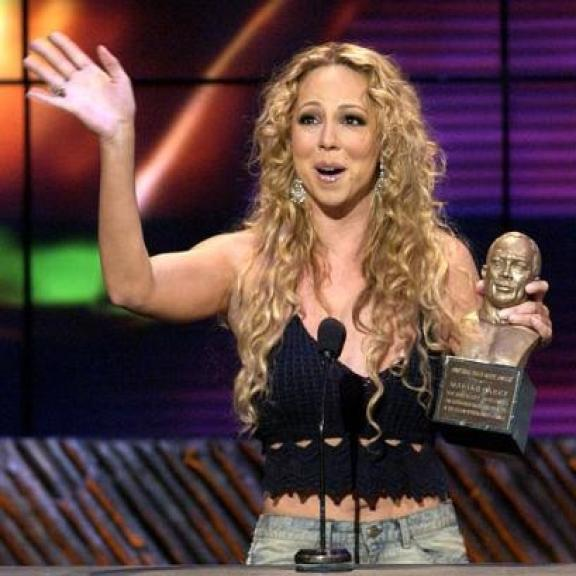face: (286, 64, 385, 207)
